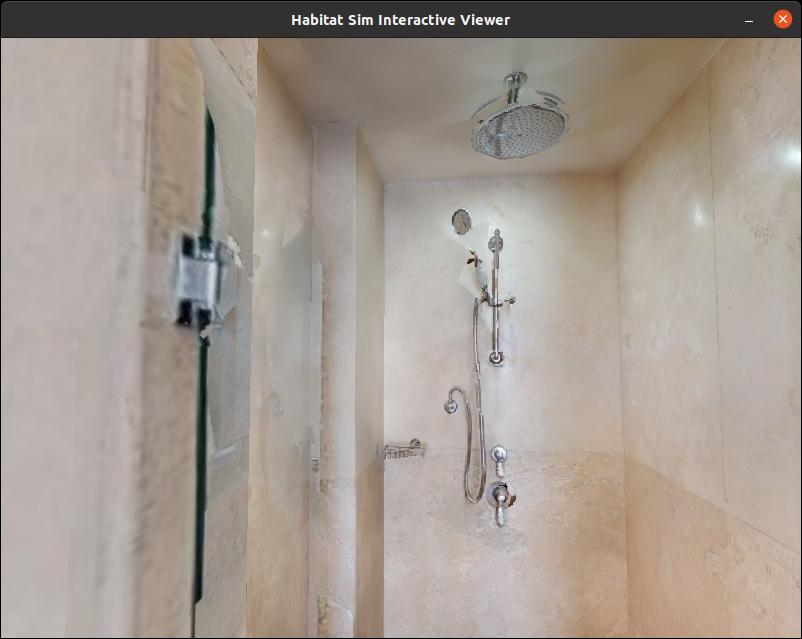shower: (303, 41, 632, 639)
